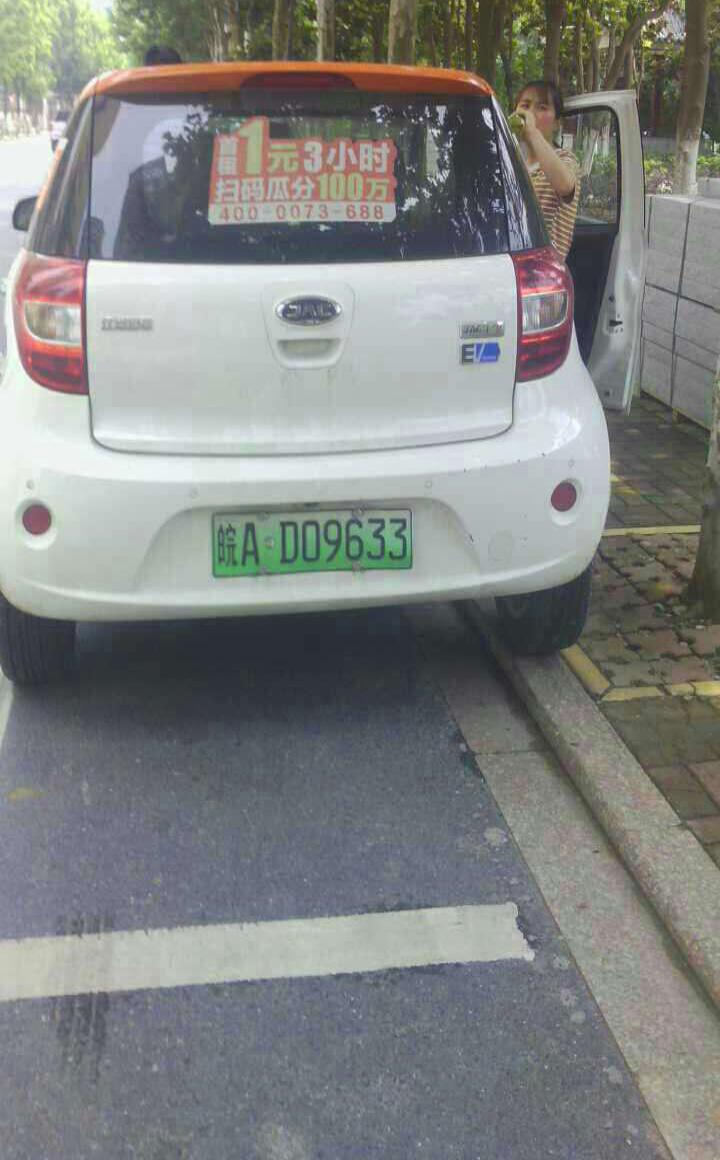car_id: (212, 511, 410, 575)
